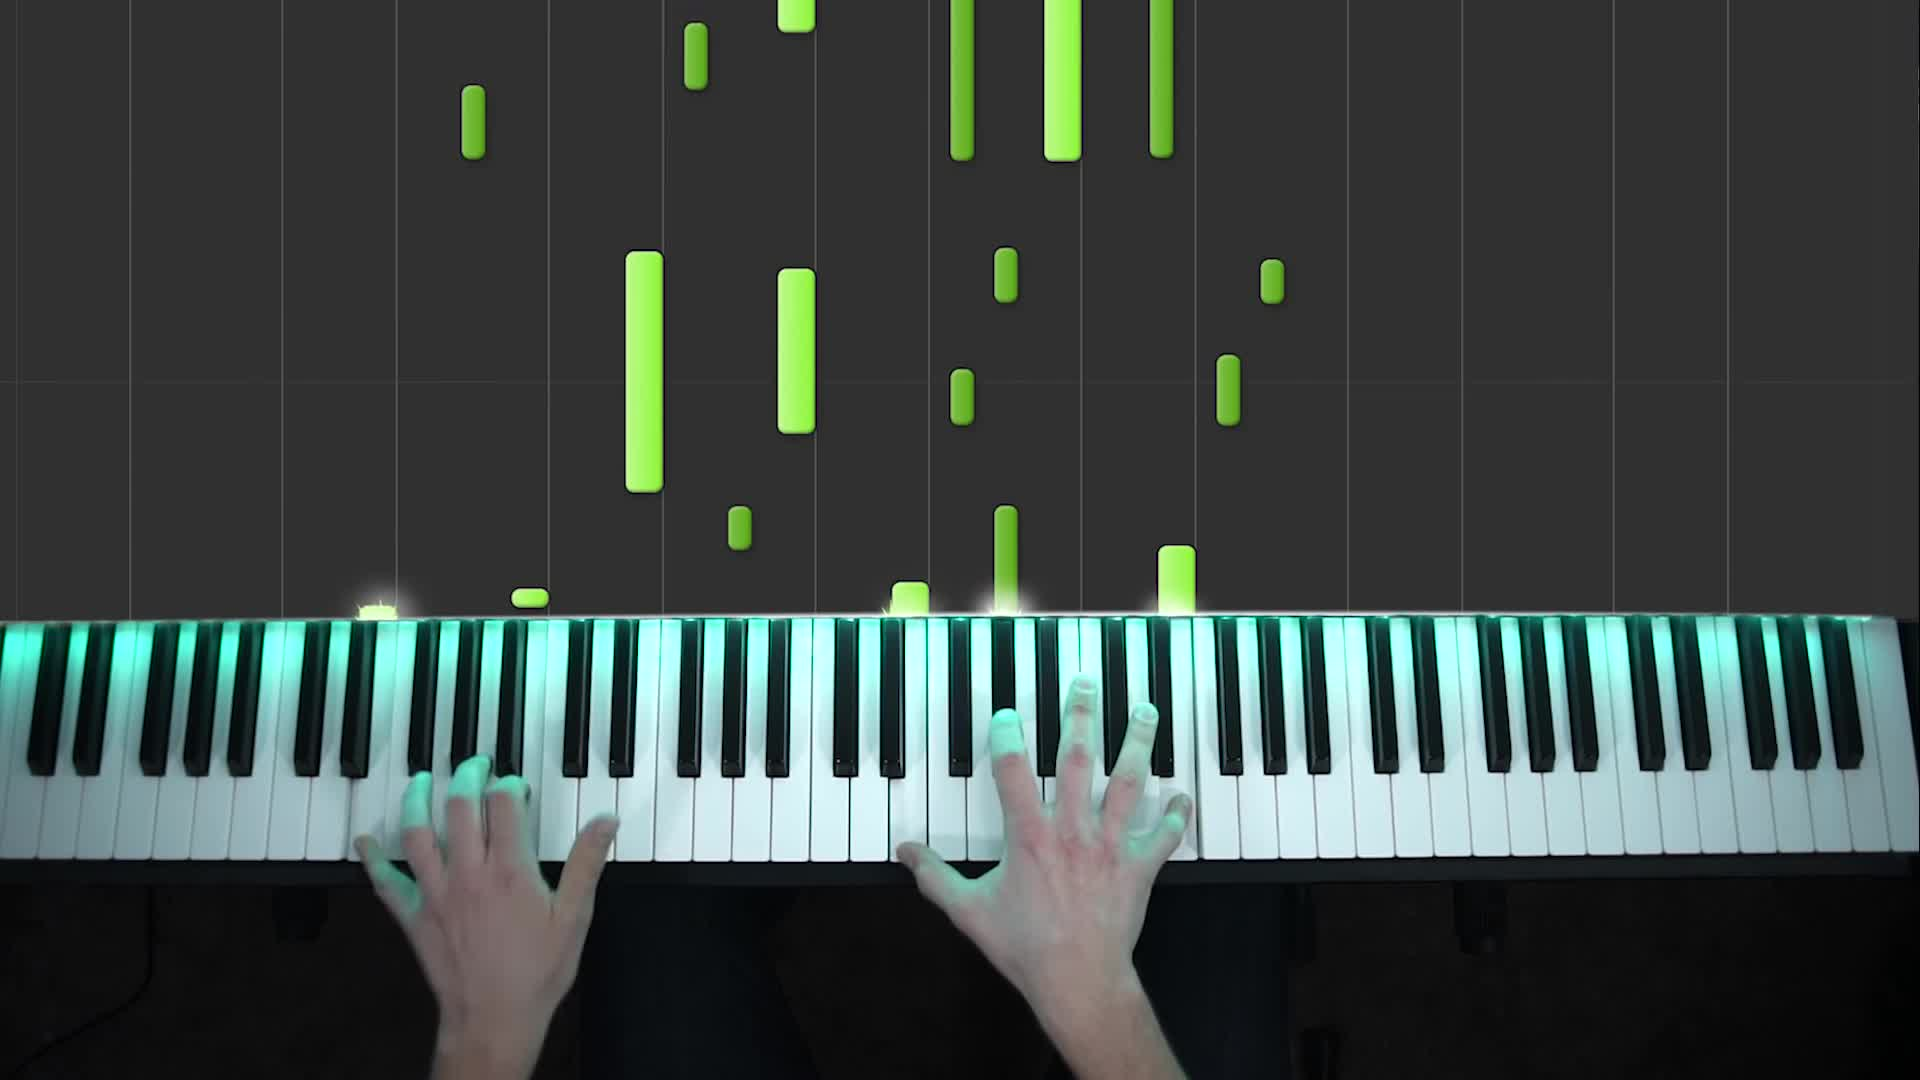left: (355, 752, 621, 1011)
right: (897, 674, 1191, 976)
